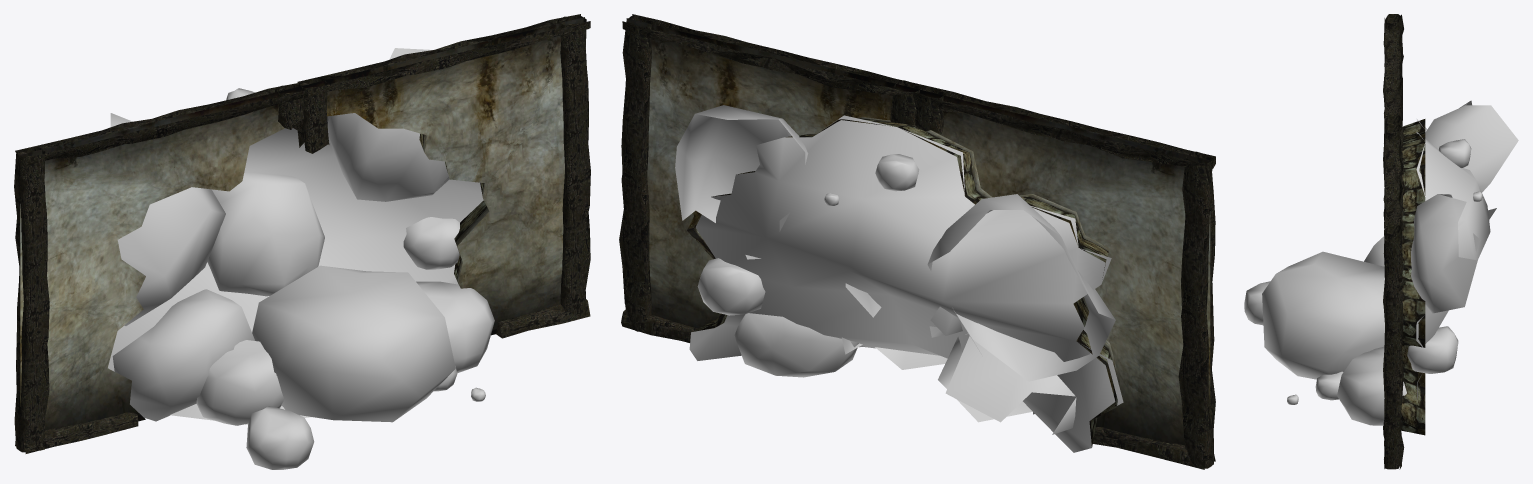
The model's file is default_extension_broken.dae.
3 renders of one model, left to right at view 1: azimuth 30°, elevation 25°; view 2: azimuth 150°, elevation 25°; view 3: azimuth 270°, elevation 25°, orthographic. The views are drawn at different scales.
Visible parts, largest first — view 1: polySurface111, polySurface33, polySurface83, polySurface68, polySurface444, polySurface34; view 2: polySurface68, polySurface33, polySurface111, polySurface83, polySurface444, polySurface34; view 3: polySurface111, polySurface34, polySurface83, polySurface68, polySurface444.
Part boxes in pixels (x1,y1,x2,y2): polySurface111: [110, 48, 494, 469]; polySurface33: [20, 17, 584, 430]; polySurface83: [14, 15, 590, 452]; polySurface68: [108, 116, 483, 424]; polySurface444: [15, 14, 590, 453]; polySurface34: [419, 133, 489, 287]; polySurface68: [689, 115, 1123, 452]; polySurface33: [626, 18, 1210, 445]; polySurface111: [675, 105, 1115, 434]; polySurface83: [619, 15, 1215, 468]; polySurface444: [621, 14, 1215, 469]; polySurface34: [687, 117, 1119, 446]; polySurface111: [1244, 100, 1518, 425]; polySurface34: [1400, 119, 1425, 435]; polySurface83: [1383, 14, 1404, 469]; polySurface68: [1416, 119, 1490, 399]; polySurface444: [1383, 14, 1403, 469].
Bounding box in the file's own units: 8.09 × 4.1 × 4.22.
